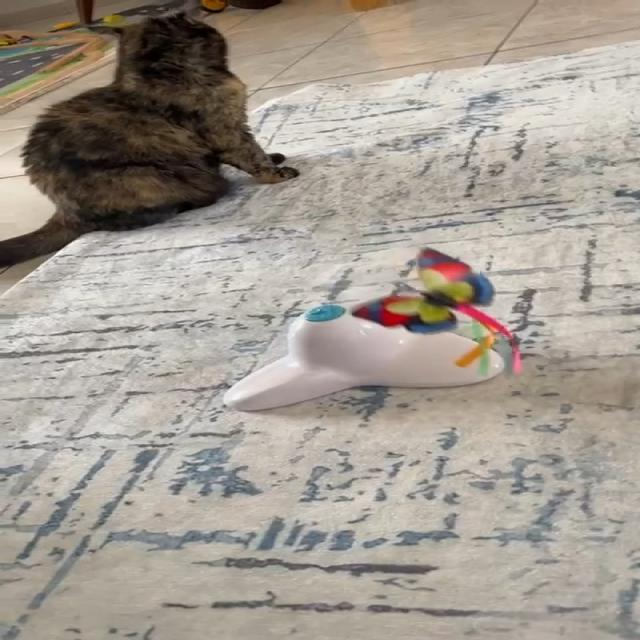authorized: (0, 0, 300, 275)
